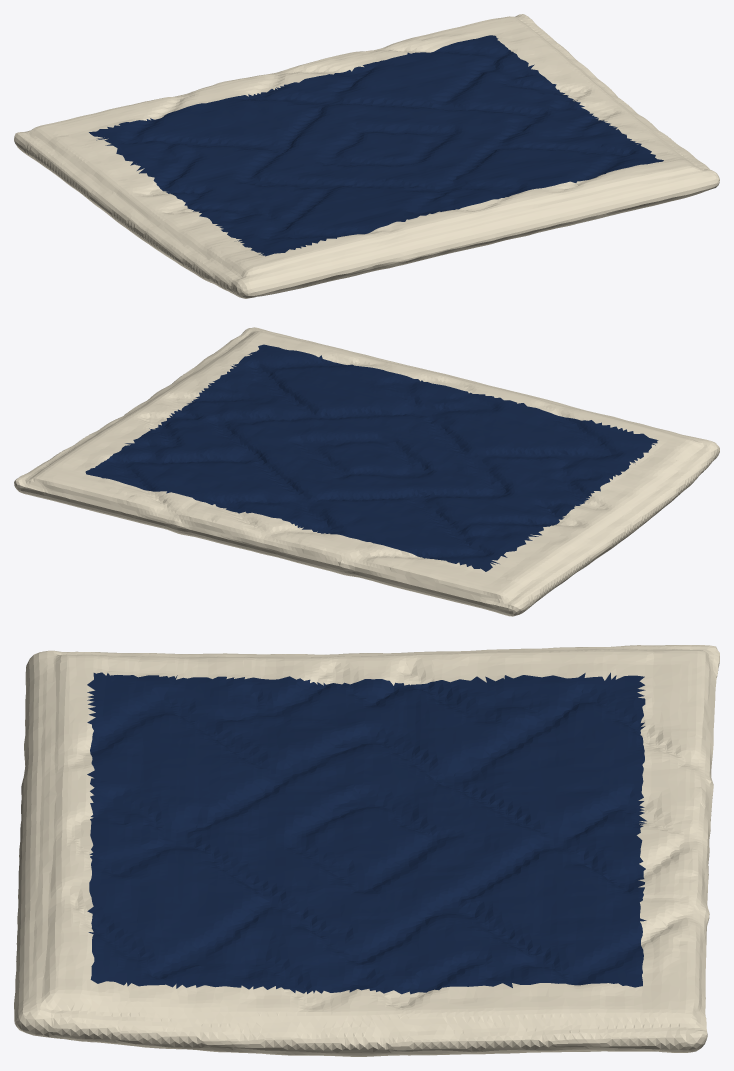
The model's file is rug_semantic.glb.
3 views of the same model, one above another, from view 1: azimuth 30°, elevation 25°; view 2: azimuth 150°, elevation 25°; view 3: azimuth 270°, elevation 25° (orthographic). The views are drawn at different scales.
Parts seen in each view (by area): view 1: RoomOne_Rug_ZUp; view 2: RoomOne_Rug_ZUp; view 3: RoomOne_Rug_ZUp.
Boxes of the visible parts, x1,y1,x2,y2 form: RoomOne_Rug_ZUp: (14, 14, 719, 298); RoomOne_Rug_ZUp: (14, 327, 719, 616); RoomOne_Rug_ZUp: (14, 645, 719, 1056).
Size of the model in its own units: 2 by 0.1702 by 1.51.
